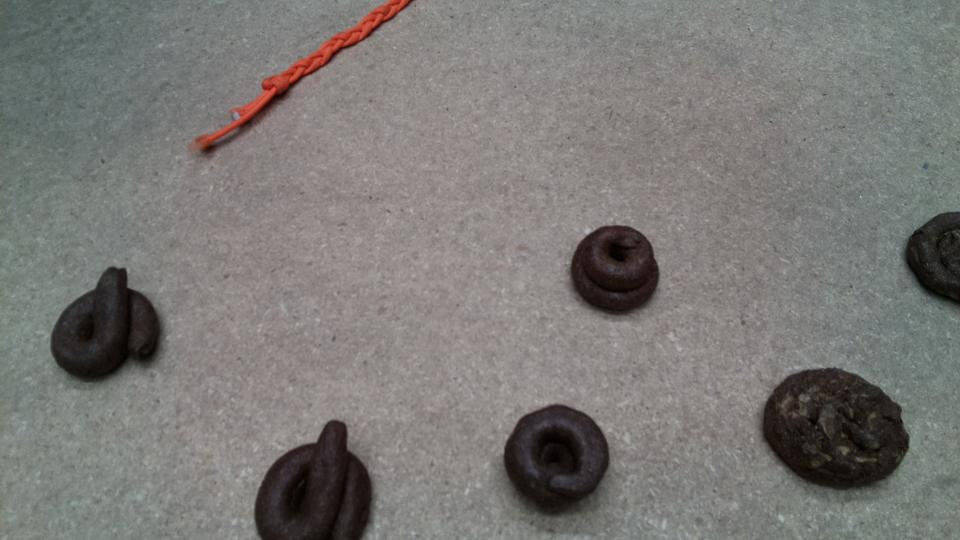poop: (759, 365, 913, 494), (252, 416, 376, 540), (46, 264, 167, 387), (501, 401, 614, 515), (568, 223, 664, 319), (901, 207, 960, 311)
rope: (193, 1, 402, 152)
